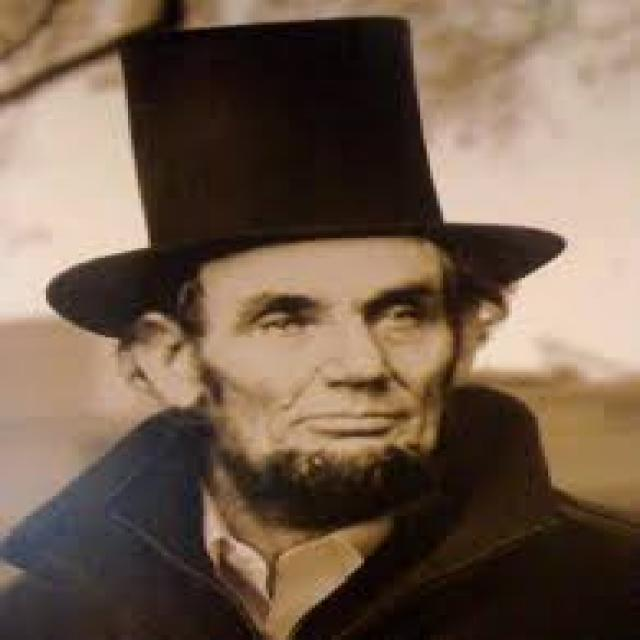hat: (39, 0, 578, 357)
